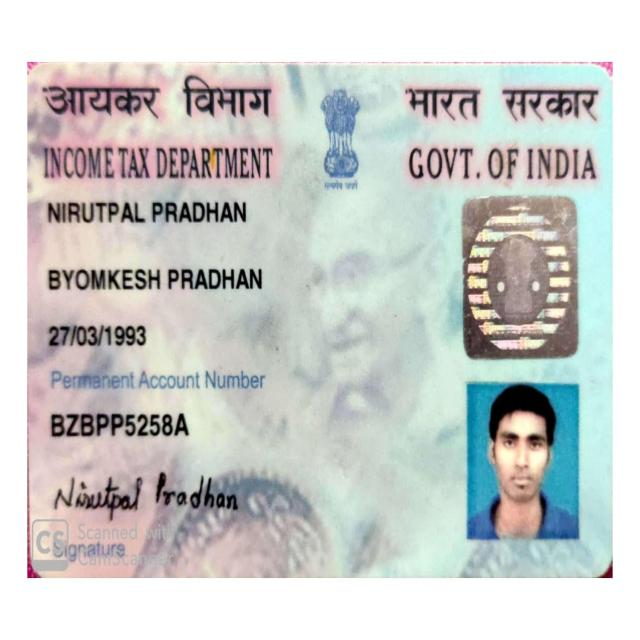pan_card: (29, 64, 614, 579)
